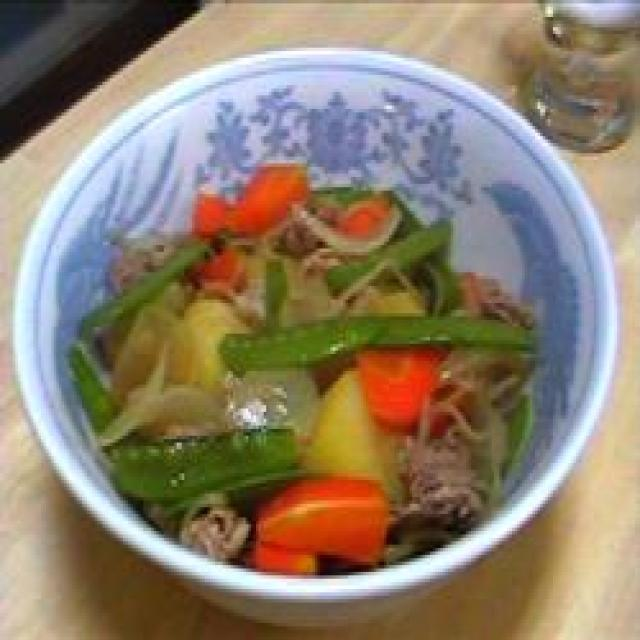牛肉菜式: (23, 48, 622, 612)
